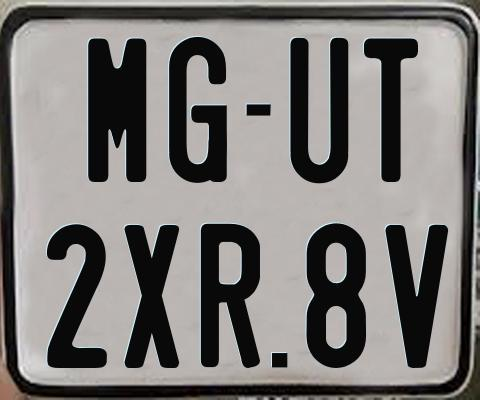2: (44, 224, 105, 368)
8: (305, 221, 368, 369)
G: (168, 37, 227, 185)
M: (88, 36, 148, 185)
R: (200, 222, 260, 370)
T: (362, 35, 419, 183)
U: (288, 35, 349, 182)
V: (385, 224, 450, 372)
X: (124, 225, 180, 368)
